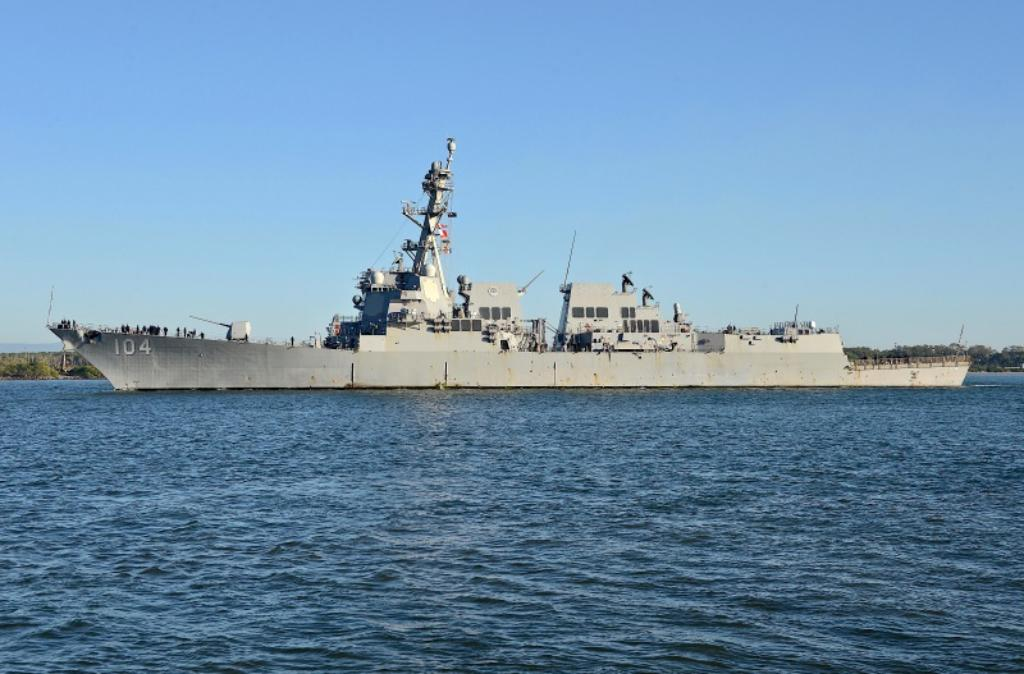Warship: (44, 132, 972, 392)
